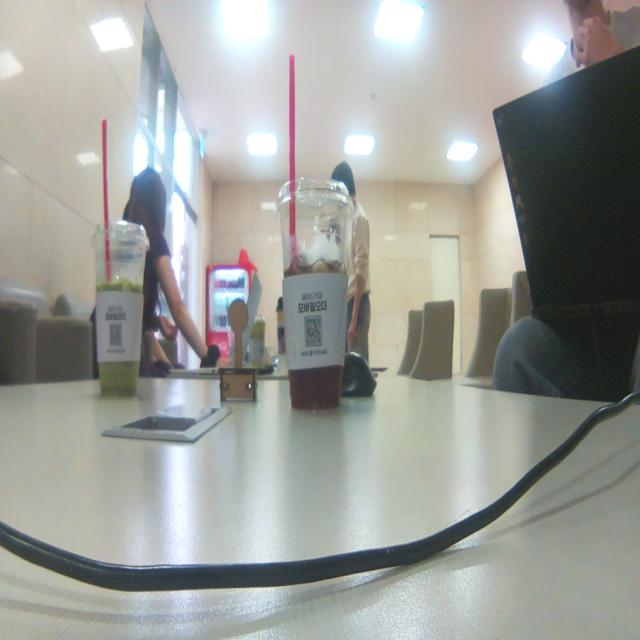target: (219, 299, 258, 405)
